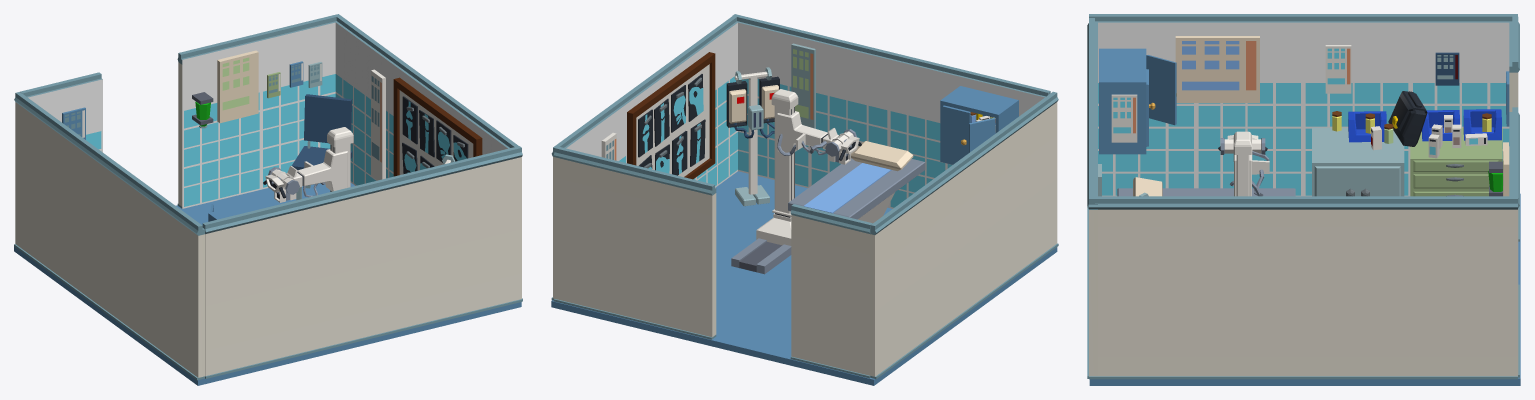
File: g_o_RoomRadiology.fbx
3 views of the same model, side by side, from view 1: azimuth 30°, elevation 25°; view 2: azimuth 150°, elevation 25°; view 3: azimuth 270°, elevation 25° (orthographic). The views are drawn at different scales.
Parts seen in each view (by area): view 1: xray_room2; view 2: xray_room2; view 3: xray_room2.
Boxes of the visible parts, box(x1,y1,x2,y2) form: xray_room2: box(14, 14, 522, 385); xray_room2: box(551, 14, 1058, 385); xray_room2: box(1087, 14, 1520, 385).
Bounding box in the file's own units: 411 × 192 × 404.
